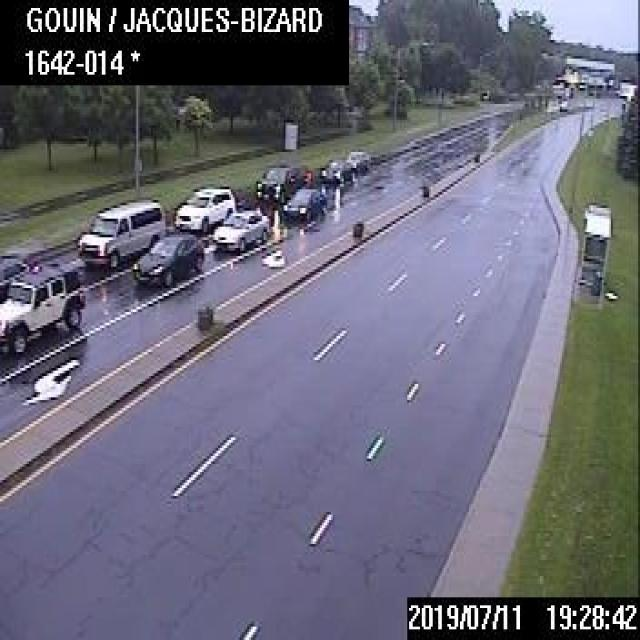vehicle: (0, 264, 84, 352), (76, 198, 163, 265), (132, 232, 202, 284), (173, 186, 233, 231), (212, 209, 267, 248), (0, 254, 42, 302), (255, 164, 306, 200), (282, 186, 325, 219), (320, 158, 352, 182), (346, 149, 368, 171)
